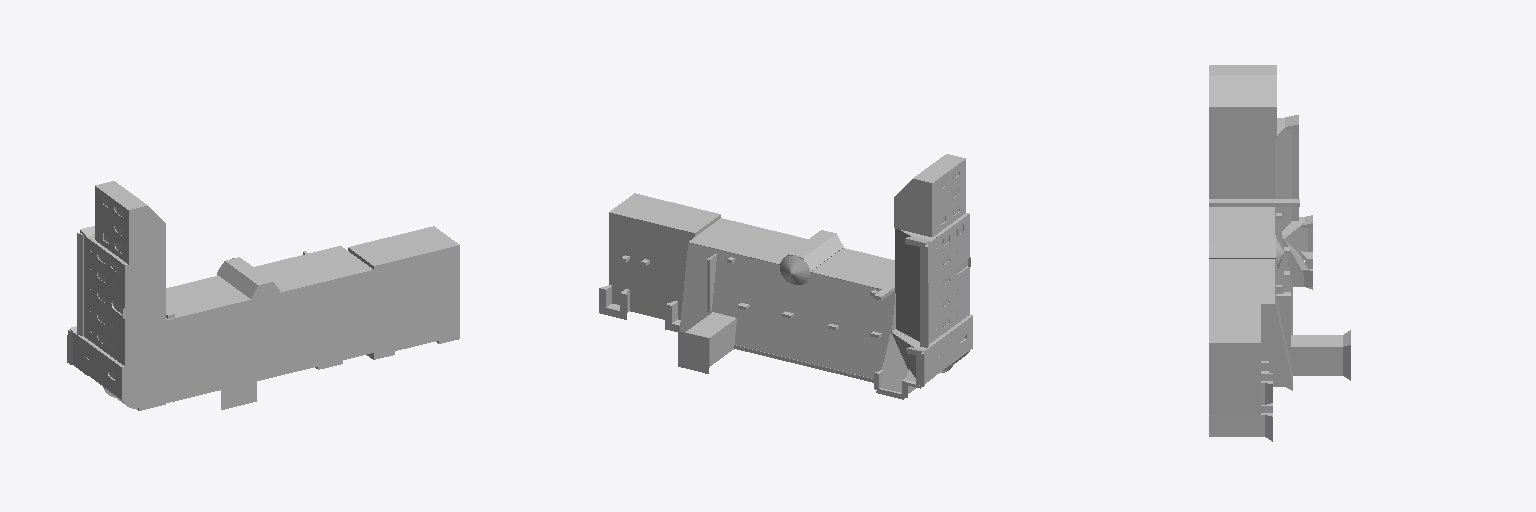
Rendered from Ratusz.obj.
3 views of the same model, side by side, from view 1: azimuth 30°, elevation 25°; view 2: azimuth 150°, elevation 25°; view 3: azimuth 270°, elevation 25° (orthographic).
Parts seen in each view (by area): view 1: Ratusz_obj_0; view 2: Ratusz_obj_0; view 3: Ratusz_obj_0.
Boxes of the visible parts, x1=… form: Ratusz_obj_0: x1=67, y1=181, x2=459, y2=410; Ratusz_obj_0: x1=599, y1=154, x2=972, y2=399; Ratusz_obj_0: x1=1209, y1=65, x2=1350, y2=441.
Size of the model in its own units: 0.0449 by 0.0277 by 0.0159.